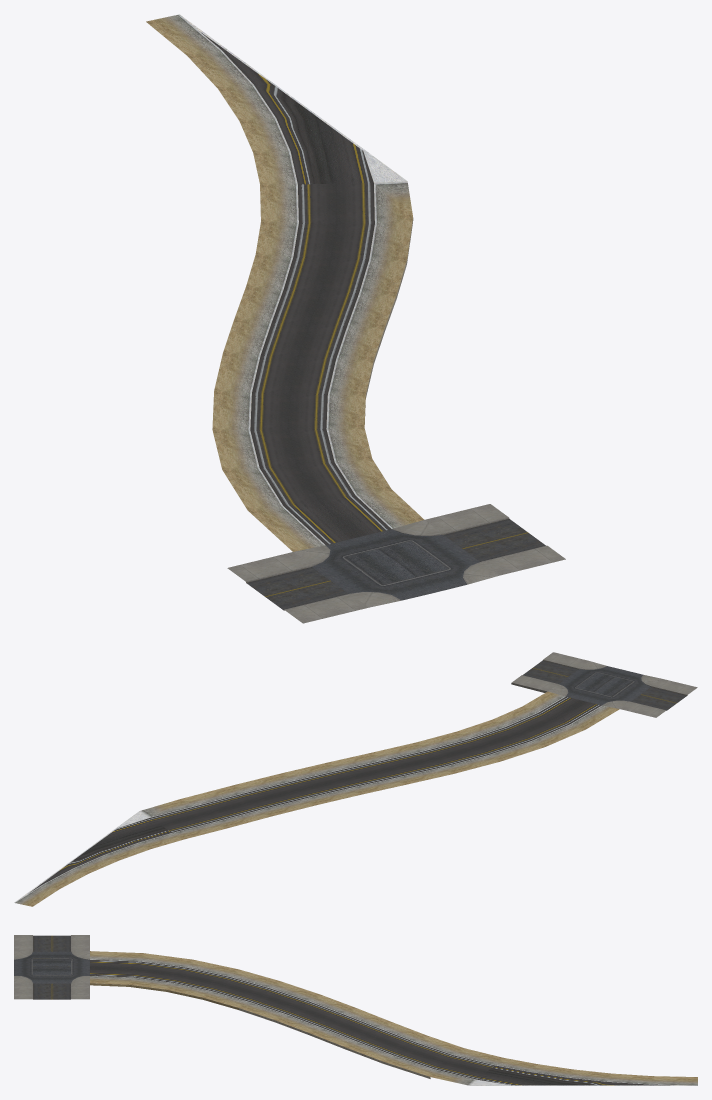
File: vegaseroad068.obj
The picture shows the model from 3 angles, top to bottom: view 1: azimuth 30°, elevation 25°; view 2: azimuth 150°, elevation 25°; view 3: azimuth 270°, elevation 25°; orthographic projection. The views are drawn at different scales.
Parts seen in each view (by area): view 1: vegasEroad068; view 2: vegasEroad068; view 3: vegasEroad068.
Boxes of the visible parts, box(x1,y1,x2,y2) form: vegasEroad068: box(146, 14, 565, 623); vegasEroad068: box(14, 652, 697, 906); vegasEroad068: box(14, 935, 697, 1085).
Size of the model in its own units: 85.19 by 4.81 by 180.
10 materials, 10 textured.
